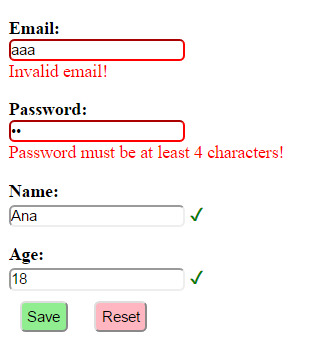error_field: (8, 38, 185, 62), (9, 119, 186, 142)
error_message: (7, 144, 283, 159), (9, 63, 108, 78), (101, 307, 141, 325)
